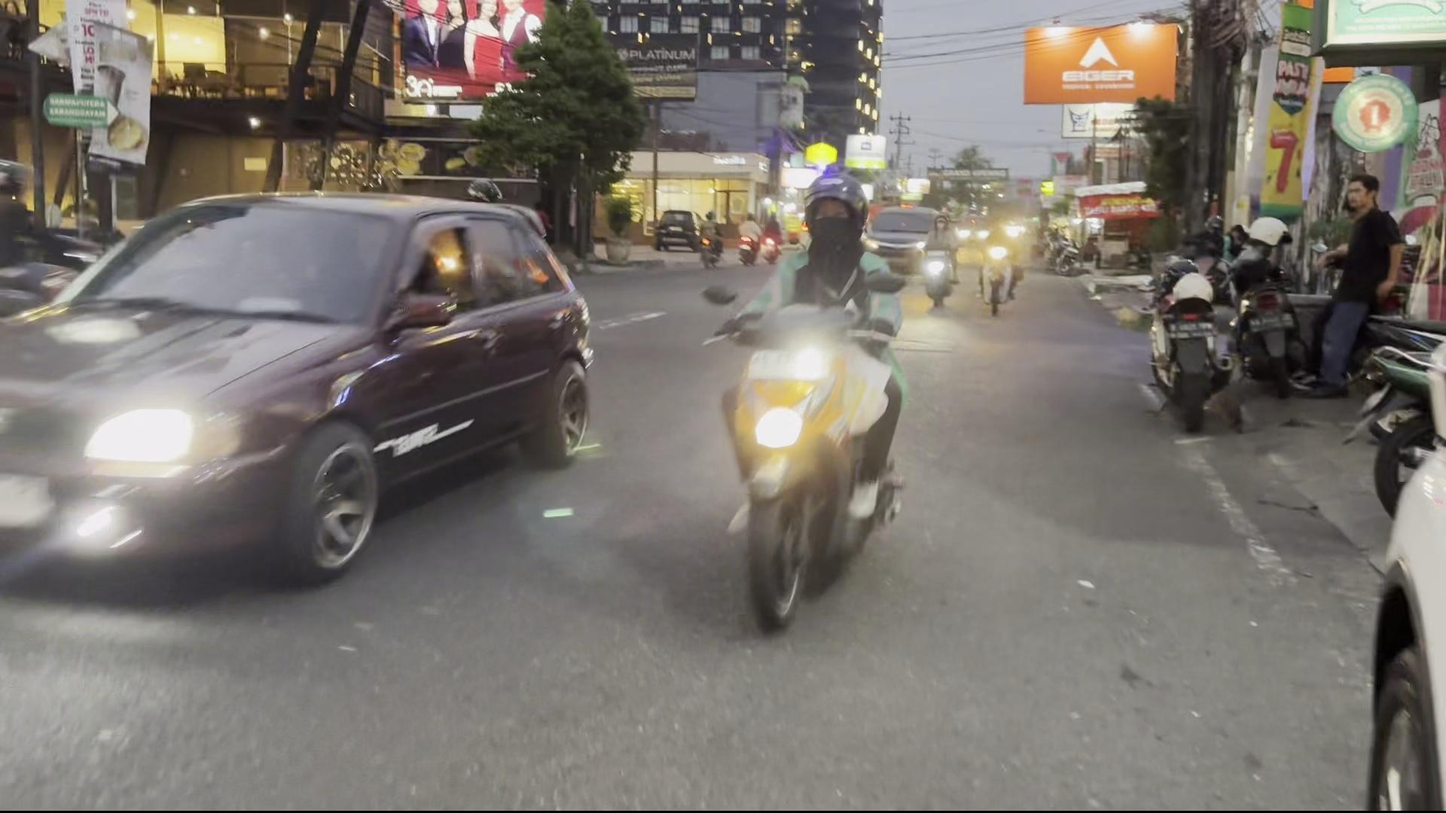helm: (800, 168, 873, 256)
riding: (692, 163, 919, 643)
